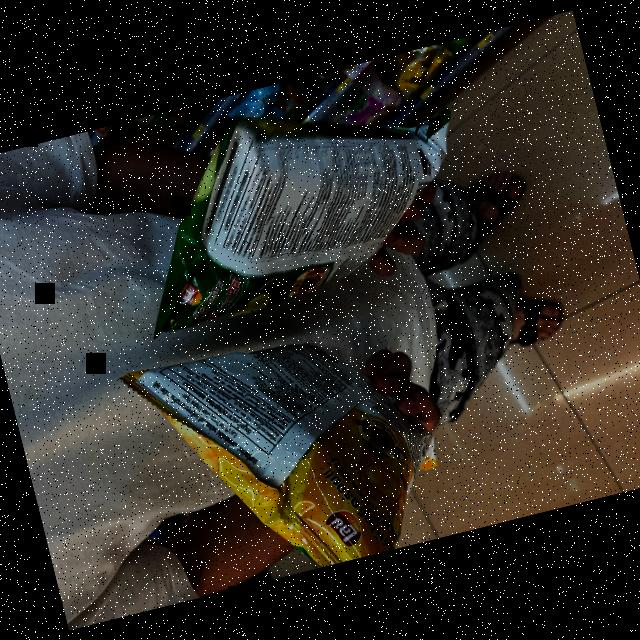snack_bag: (98, 64, 486, 345), (116, 296, 469, 603)
